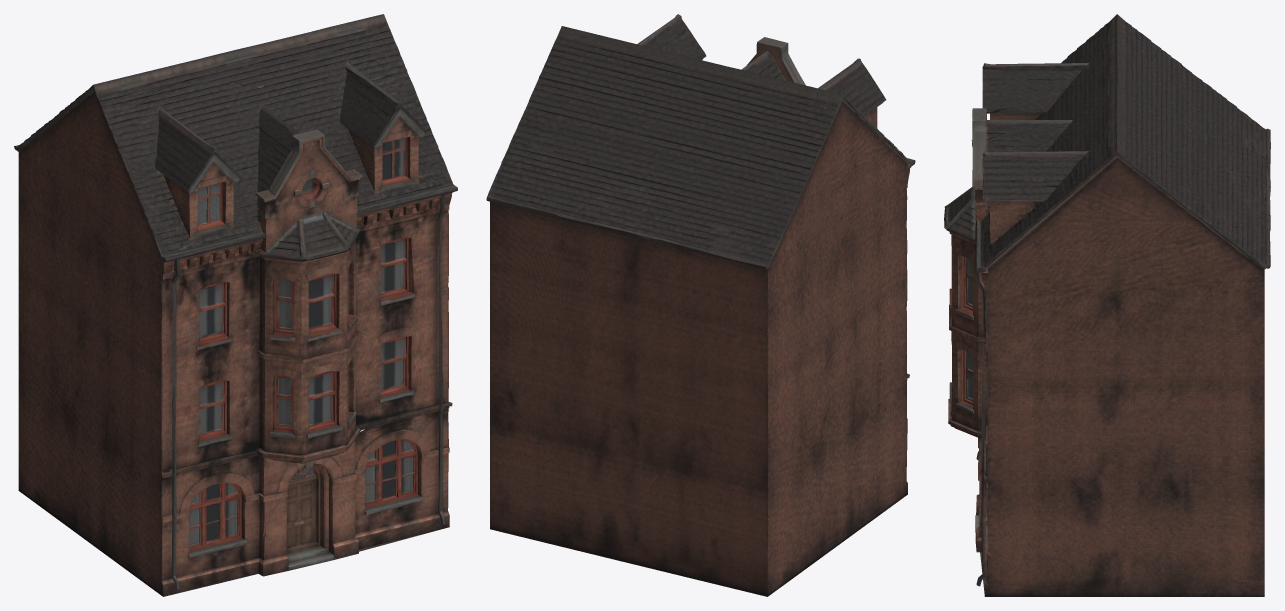
Rendered from colony_house_c2_risalit_b.glb.
3 views of the same model, side by side, from view 1: azimuth 30°, elevation 25°; view 2: azimuth 150°, elevation 25°; view 3: azimuth 270°, elevation 25° (orthographic). The views are drawn at different scales.
Parts seen in each view (by area): view 1: main; view 2: main; view 3: main.
Part boxes in pixels (x1,y1,x2,y2): main: (14,14,457,596); main: (486,14,915,596); main: (944,14,1270,596).
Size of the model in its own units: 8.28 by 12.5 by 8.27.
1 material, 1 textured.
